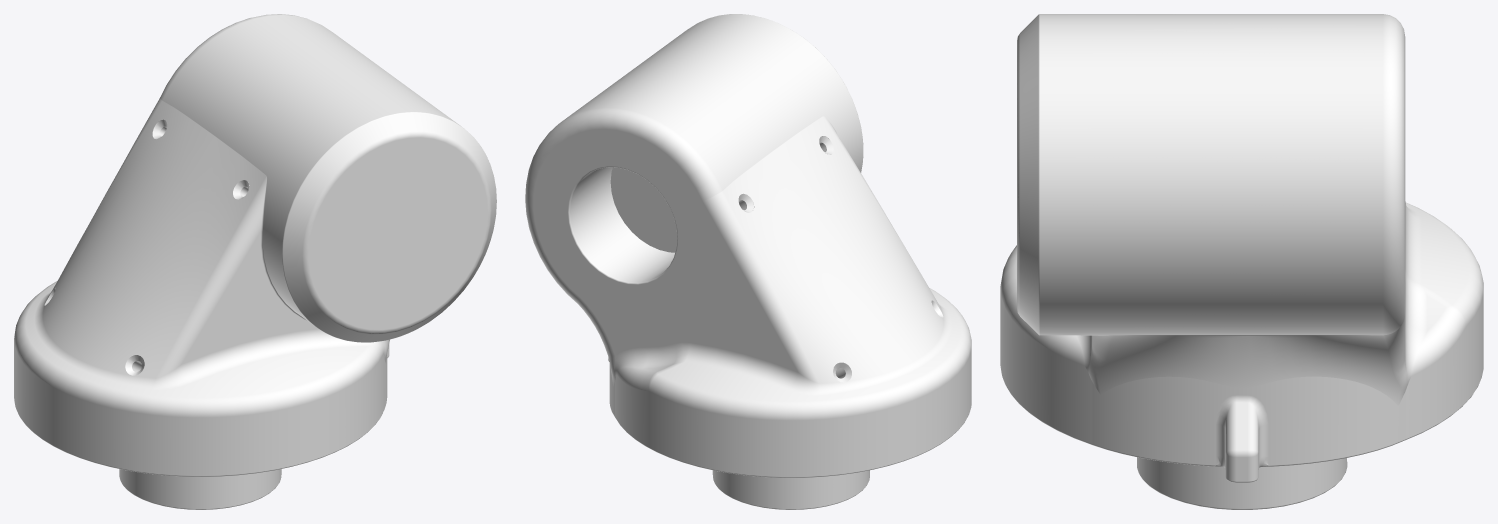
Rendered from Axis1.obj.
The picture shows the model from 3 angles, left to right: view 1: azimuth 30°, elevation 25°; view 2: azimuth 150°, elevation 25°; view 3: azimuth 270°, elevation 25°; orthographic projection. The views are drawn at different scales.
Visible parts, largest first — view 1: Axis1; view 2: Axis1; view 3: Axis1.
Boxes of the visible parts, x1,y1,x2,y2 form: Axis1: [14, 14, 496, 509]; Axis1: [525, 14, 971, 509]; Axis1: [1000, 14, 1483, 509].
Bounding box in the file's own units: 256 × 252 × 218.
Materials: 1 (1 with a texture image).
